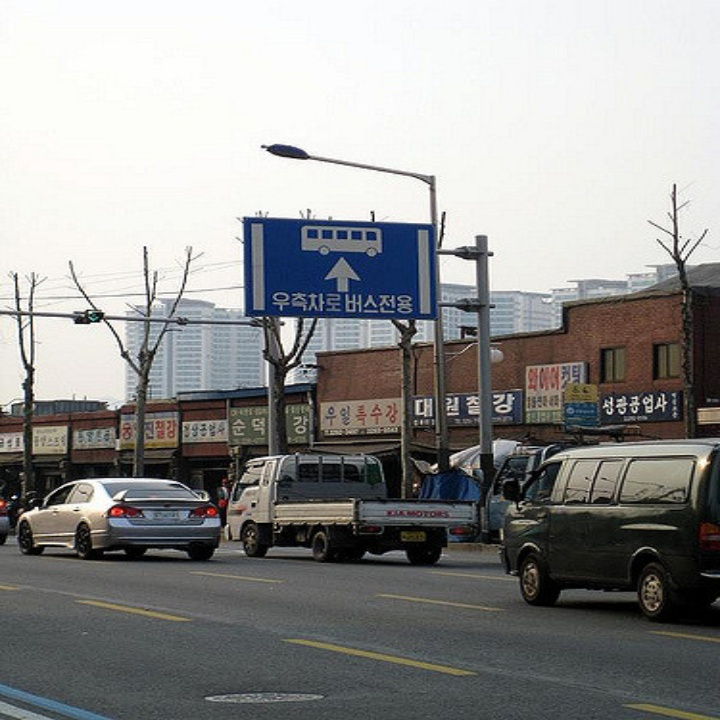bus: (298, 219, 391, 261)
